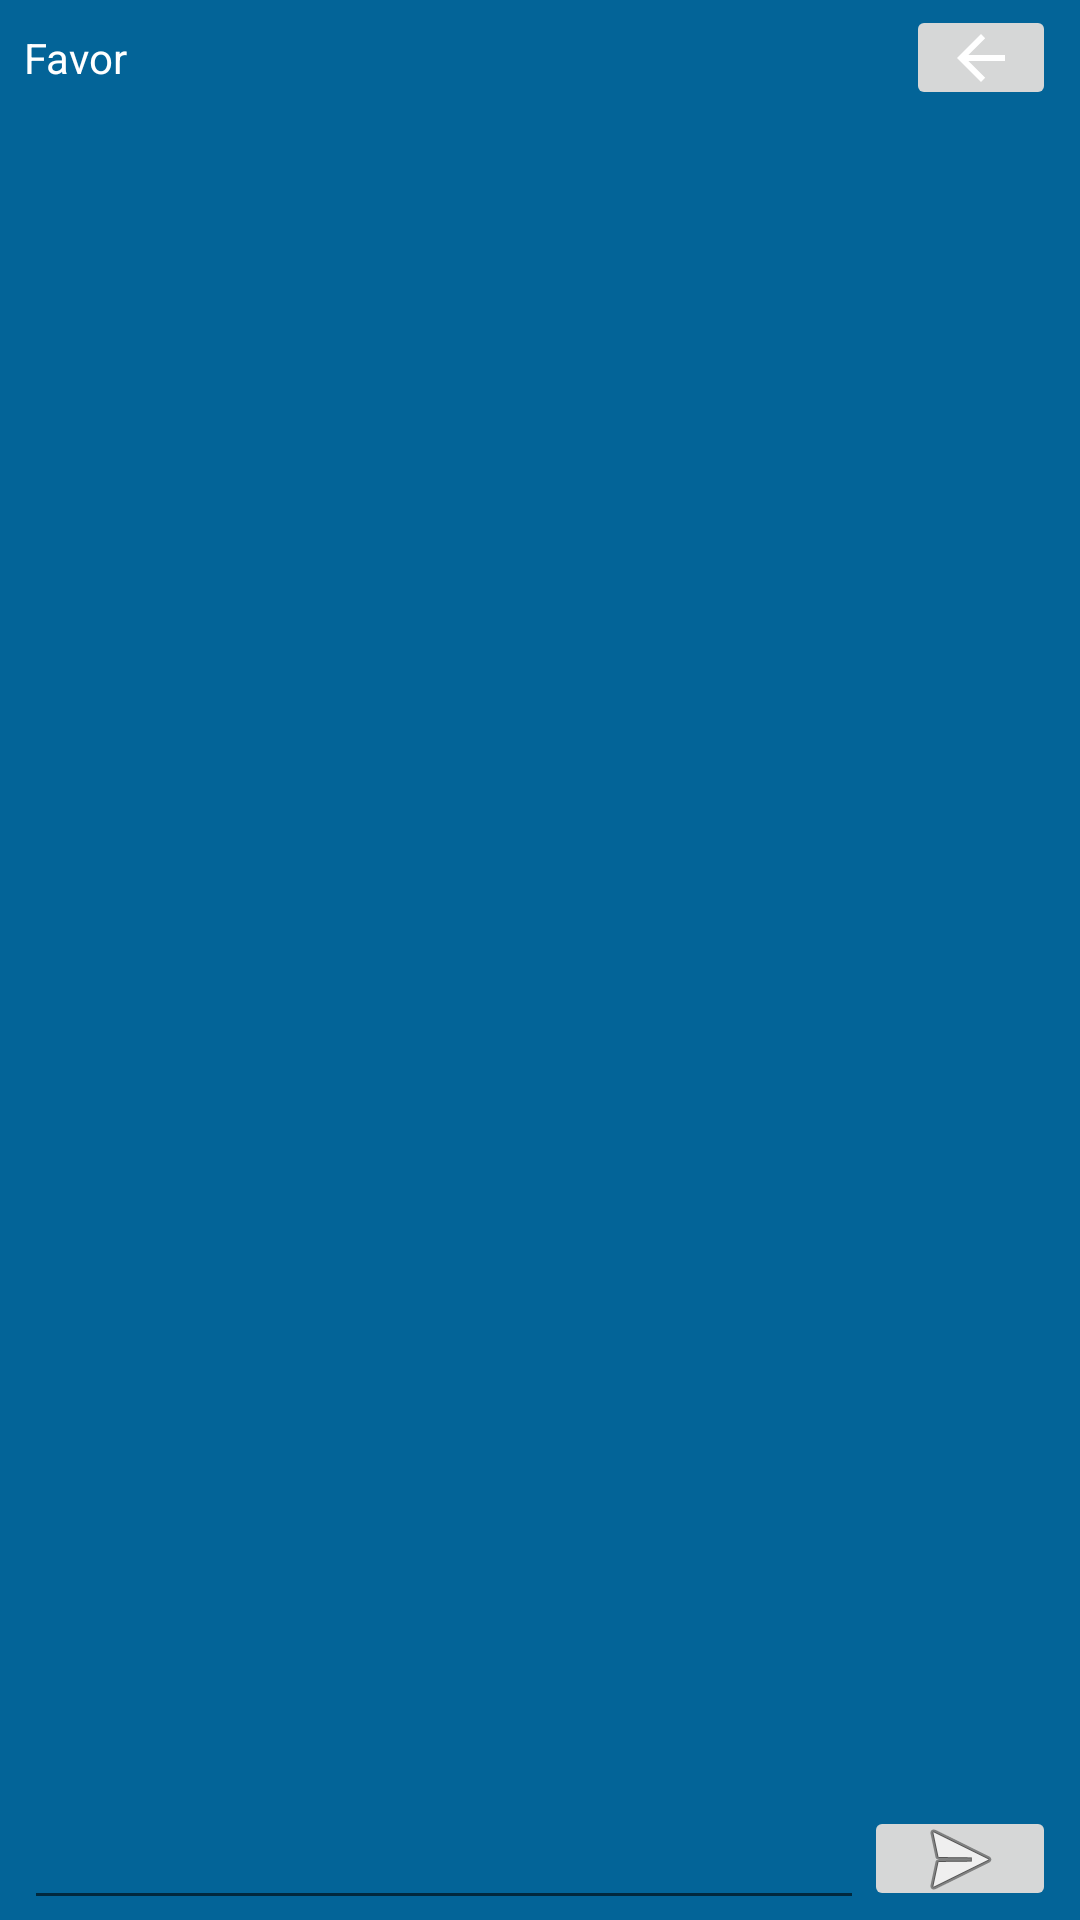

Named icons in this screenshot (1080*1920) and their centers, point (x, y):
send: point (960, 1858)
